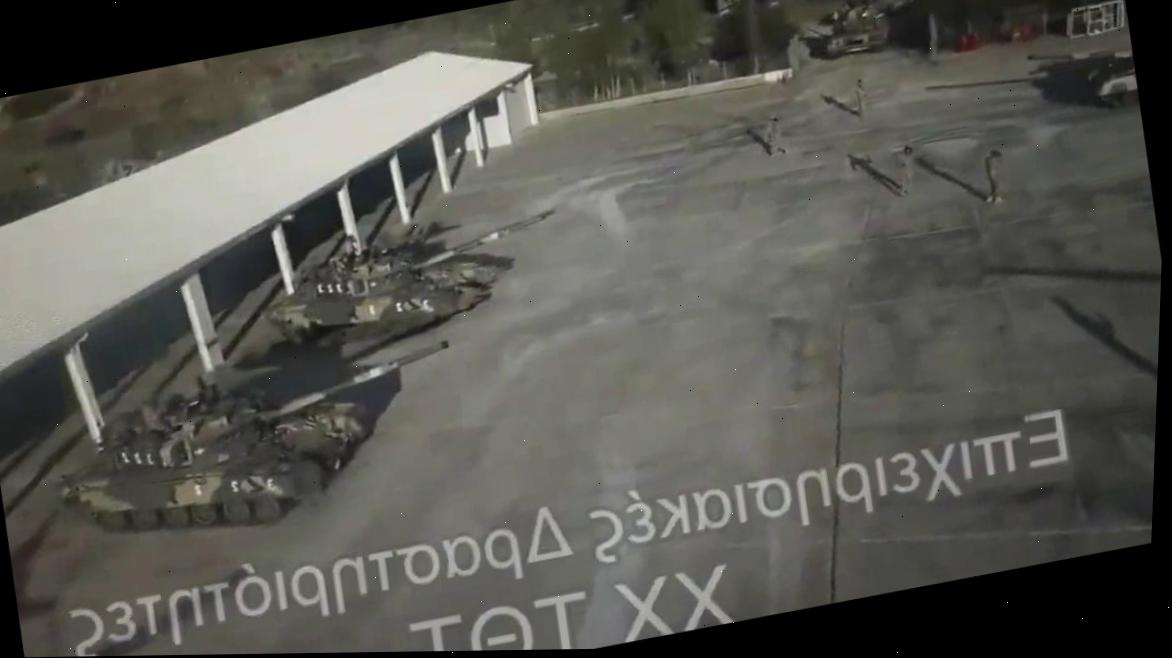person: (976, 149, 1010, 205), (892, 144, 921, 197), (759, 112, 786, 159), (853, 78, 871, 118)
tank: (36, 327, 477, 564), (254, 201, 561, 356), (1021, 18, 1144, 128), (813, 0, 911, 66)
